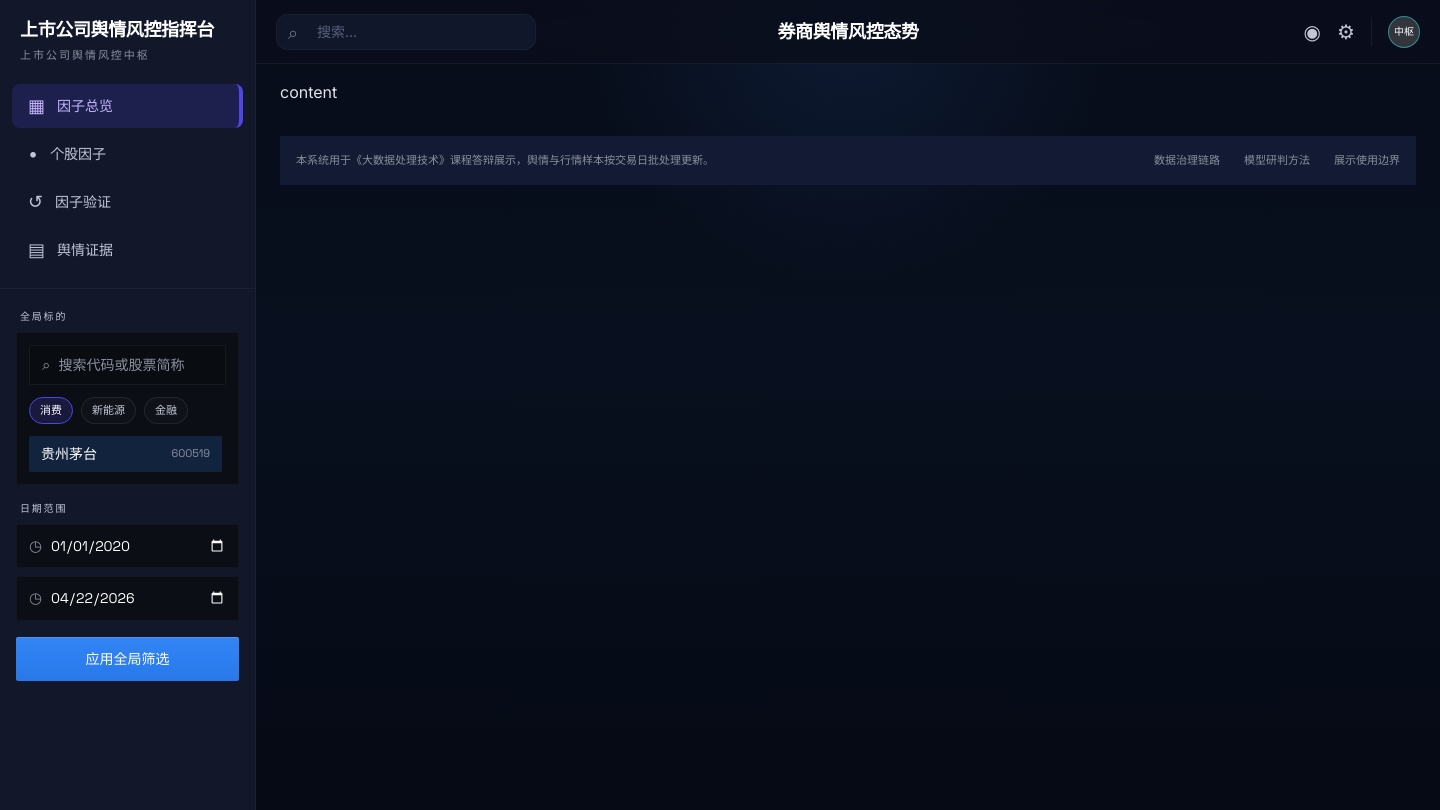
Test: AppShell › allows switching sector tabs without forcing the current ticker group back
What coordinates should you click on to do the following:
click the button "新能源"
I would click on:
 (108, 410)
Its box is [81,397,136,424].
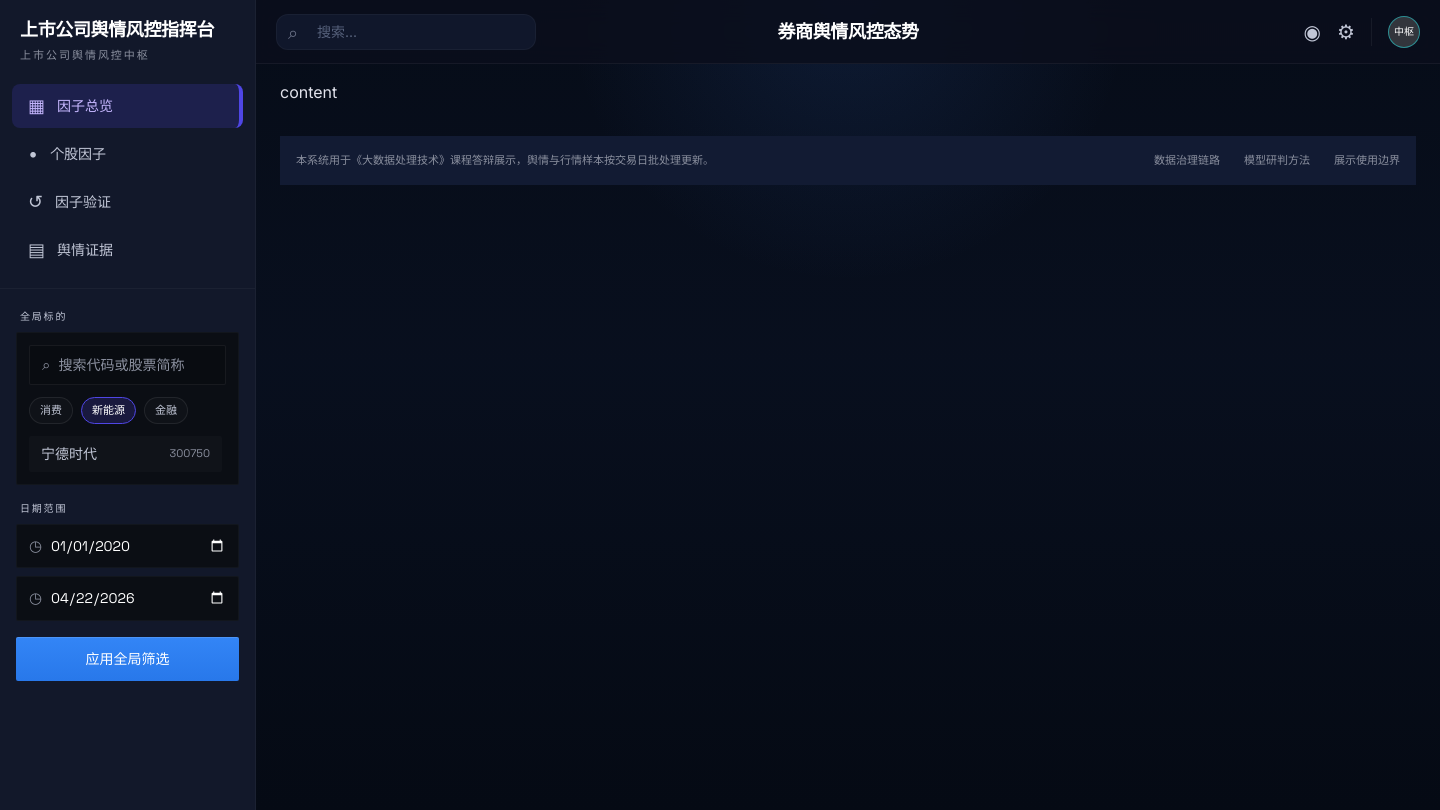
Result: the text "宁德时代" is shown at [41,444,97,464]
Result: the button "贵州茅台" is gone
